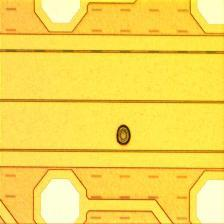PIQ PARTICLE: (115, 124, 133, 148)
